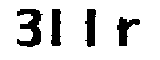3: (11, 7, 46, 53)
I: (49, 7, 71, 51), (82, 6, 101, 54)
r: (113, 12, 144, 50)
